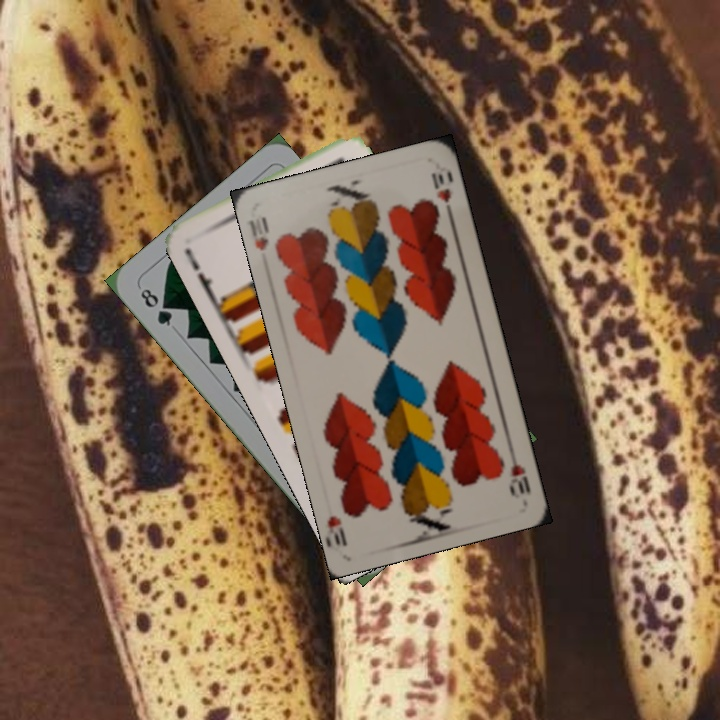E7: (180, 244, 215, 298)
G8: (136, 284, 176, 329)
H10: (505, 444, 533, 499), (245, 213, 272, 253)
